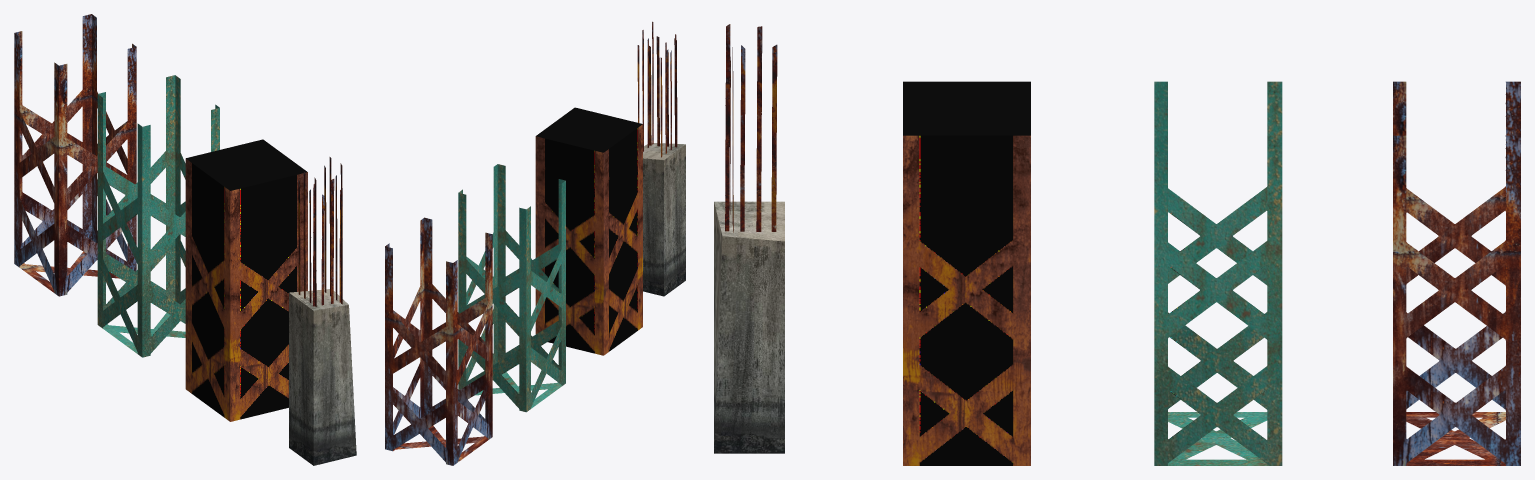
Rendered from armatures set.fbx.
3 views of the same model, side by side, from view 1: azimuth 30°, elevation 25°; view 2: azimuth 150°, elevation 25°; view 3: azimuth 270°, elevation 25° (orthographic). The views are drawn at different scales.
Parts seen in each view (by area): view 1: Armature red, Armature red.002, Armature red.001, IMG_4470.003; view 2: Armature red, Armature red.002, Armature red.001, IMG_4470.003; view 3: Armature red, Armature red.001, Armature red.002, IMG_4470.003.
Part boxes in pixels (x1=…): Armature red: x1=185, y1=139, x2=307, y2=421; Armature red.002: x1=14, y1=14, x2=136, y2=296; Armature red.001: x1=97, y1=75, x2=219, y2=357; IMG_4470.003: x1=289, y1=157, x2=356, y2=465; Armature red: x1=535, y1=107, x2=642, y2=355; Armature red.002: x1=385, y1=217, x2=492, y2=465; Armature red.001: x1=458, y1=164, x2=565, y2=412; IMG_4470.003: x1=637, y1=21, x2=685, y2=296; Armature red: x1=903, y1=81, x2=1030, y2=465; Armature red.001: x1=1154, y1=81, x2=1282, y2=465; Armature red.002: x1=1393, y1=81, x2=1520, y2=465; IMG_4470.003: x1=714, y1=24, x2=784, y2=453.
Size of the model in its own units: 200 by 734 by 1260.
Materials: 6 (6 with a texture image).
